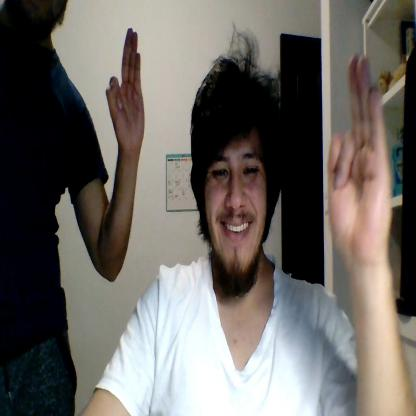F: (328, 52, 392, 267), (106, 26, 145, 153)
